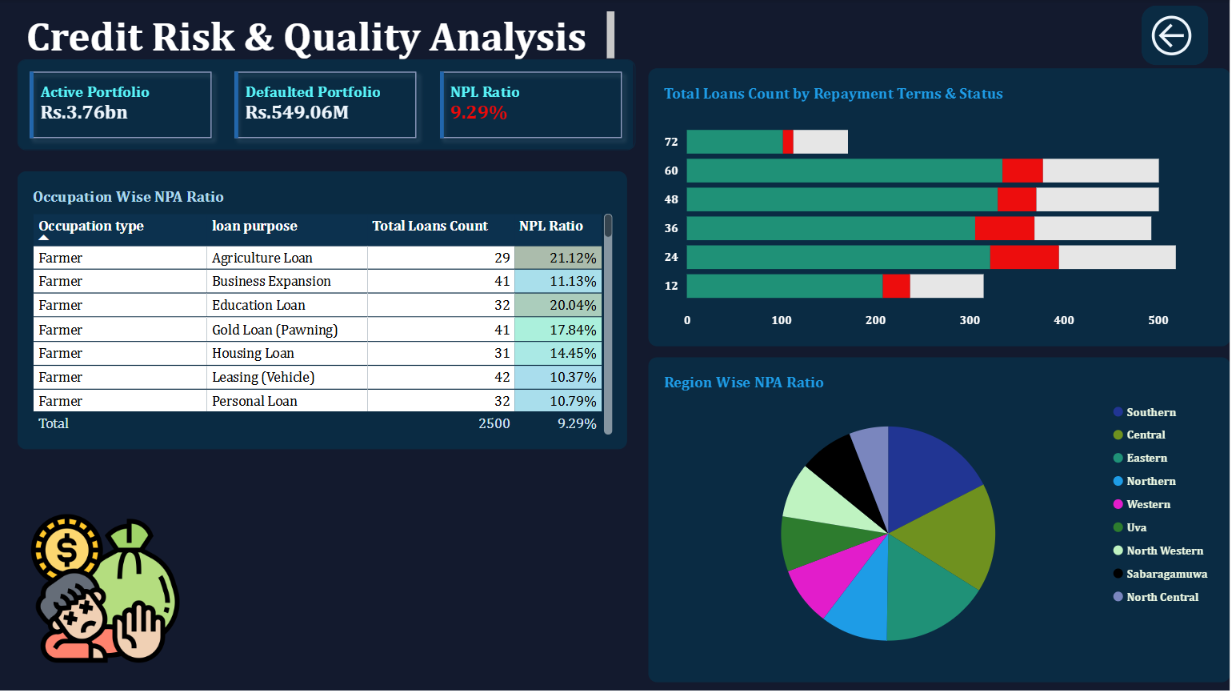

The dashboard page shown, as its layout file describes it:
{"tool":"powerbi","page":{"name":"Credit Risk & Quality Analysis","canvas":[1280,720],"ordinal":2},"visuals":[{"type":"textbox","box":[29.1,12.5,611.1,49.9],"z":0},{"type":"cardVisual","fields":{"Data":["Key Measures.Active Portfolio","Key Measures.Defaulted Portfolio","Key Measures.NPL Ratio"]},"box":[19.7,62.4,642.3,94.6],"z":1000},{"type":"tableEx","title":"Occupation Wise NPA Ratio","fields":{"Values":["Customer_Details.Occupation type","Loan_Details.loan purpose","Key Measures.Total Loans Count","Key Measures.NPL Ratio"]},"box":[19.7,178.8,634,288.9],"z":2000},{"type":"barChart","title":"Total Loans Count by Repayment Terms & Status","fields":{"Category":["Loan_Details.loan term in months"],"Series":["Loan_Details.loan status"],"Y":["Key Measures.Total Loans Count"]},"box":[675.2,72.1,604.5,288.6],"z":3000},{"type":"pieChart","title":"Region Wise NPA Ratio ","fields":{"Category":["Branch_Details.Region"],"Y":["Key Measures.NPL Ratio"]},"box":[675.2,372.2,604.5,337.6],"z":4000},{"type":"image","box":[19.2,513,184.6,197.8],"z":5000},{"type":"actionButton","box":[1187.9,6.2,69.6,62.4],"z":6000}]}

Visuals, with their boxes in screenshot pixels (x1, y1, x2, y2), scaled from the page's 1280x720 canvas onto the 1231x691 screenshot:
textbox: <box>28,12,616,60</box>
cardVisual - Key Measures.Active Portfolio x Key Measures.Defaulted Portfolio: <box>19,60,637,151</box>
"Occupation Wise NPA Ratio" tableEx: <box>19,172,629,449</box>
"Total Loans Count by Repayment Terms & Status" barChart: <box>649,69,1230,346</box>
"Region Wise NPA Ratio " pieChart: <box>649,357,1230,681</box>
image: <box>18,492,196,682</box>
actionButton: <box>1142,6,1209,66</box>
